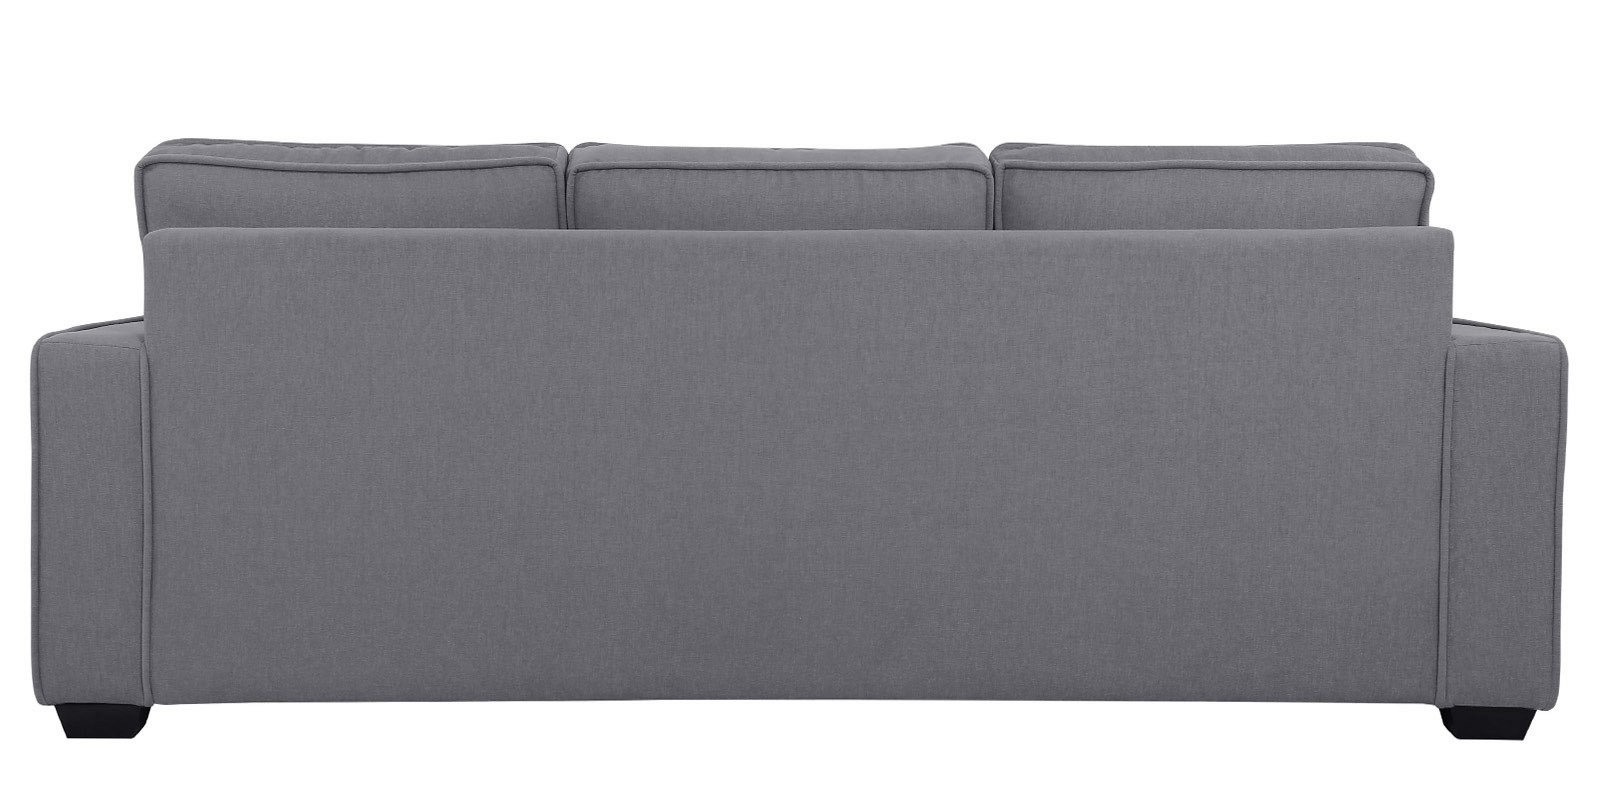Hugo Three Seater Sofa in Ash Grey Colour by CasaCraft: (6, 116, 1579, 763)
